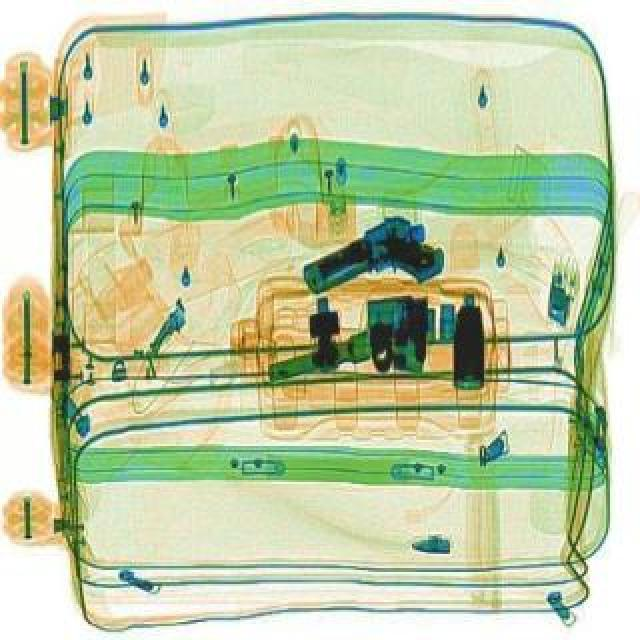gun: (292, 200, 452, 324)
